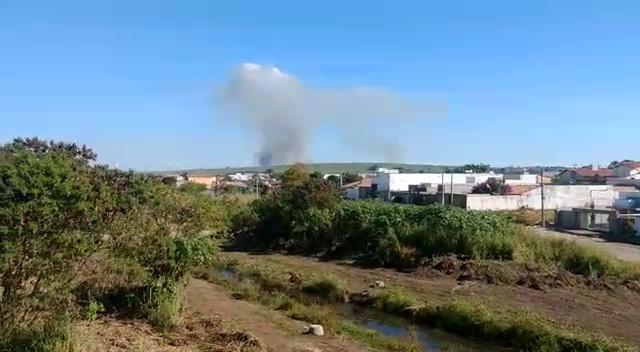smoke: (265, 83, 310, 157)
